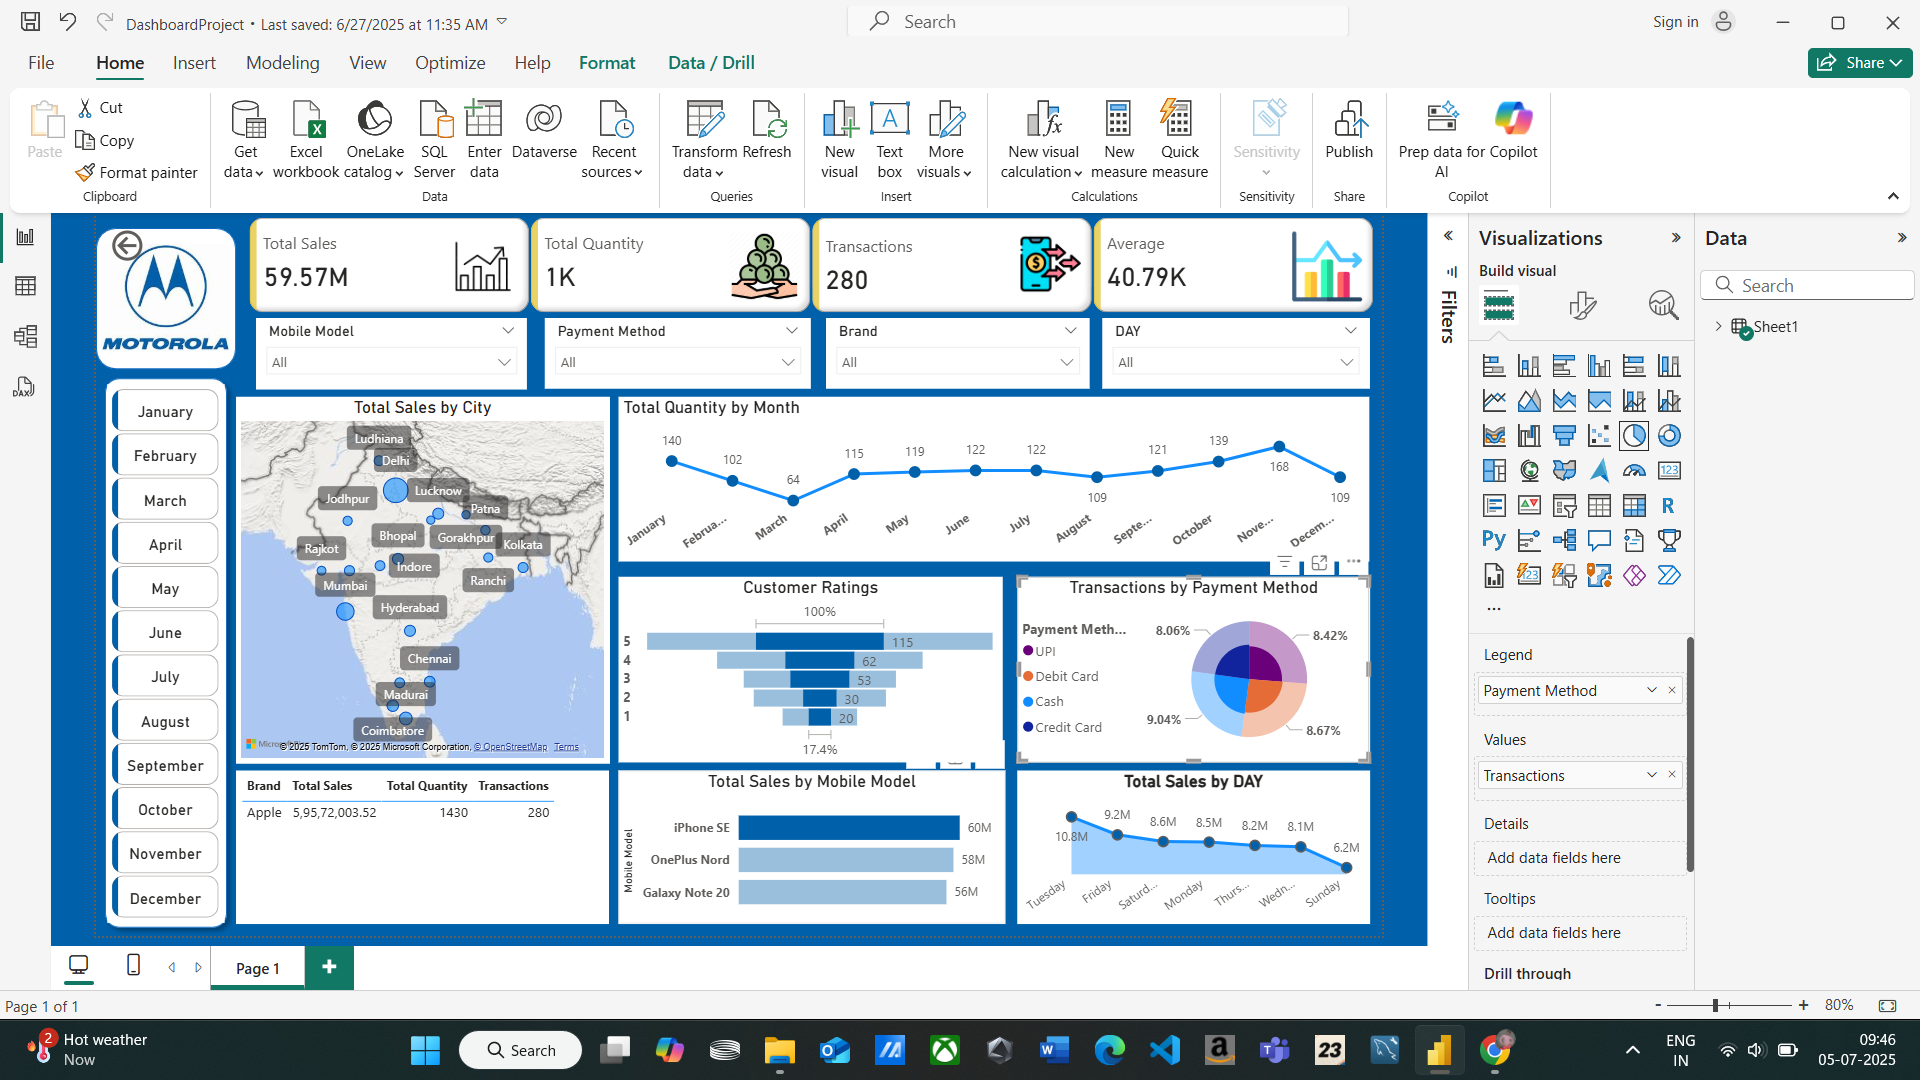

The page's visual inventory and layout, read from the dashboard file:
{"tool":"powerbi","page":{"name":"Page 1","canvas":[1280,720],"ordinal":0},"visuals":[{"type":"shape","box":[0,14.9,139.3,140.6],"z":0},{"type":"image","box":[0,12.5,138.8,142.5],"z":1000},{"type":"shape","box":[0,155.5,139.3,564.8],"z":2000},{"type":"advancedSlicerVisual","fields":{"Values":["Sheet1.DATE.Variation.Date Hierarchy.Month"]},"box":[11.2,170.4,116.9,536.1],"z":3000},{"type":"cardVisual","fields":{"Data":["Sheet1.Total Sales","Sheet1.Total Quantity","Sheet1.Transactions","Sheet1.Average"]},"box":[148,0,1129.5,104.5],"z":4000},{"type":"map","fields":{"Category":["Sheet1.City"],"Size":["Sheet1.Total Sales"]},"box":[138.8,182.5,371.2,365],"z":5000},{"type":"lineChart","fields":{"Y":["Sheet1.Total Quantity"],"Category":["Sheet1.DATE.Variation.Date Hierarchy.Month","Sheet1.DATE.Variation.Date Hierarchy.Day"]},"box":[520,182.5,747.5,163.8],"z":6000},{"type":"barChart","fields":{"Category":["Sheet1.Mobile Model"],"Y":["Sheet1.Total Sales"]},"box":[520,555,385,152.5],"z":7000},{"type":"pieChart","fields":{"Category":["Sheet1.Payment Method"],"Y":["Sheet1.Transactions"]},"box":[916.2,362.5,351.2,185],"z":8000},{"type":"funnel","title":"  Customer Ratings","fields":{"Category":["Sheet1.Customer Ratings"],"Y":["CountNonNull(Sheet1.Customer Ratings)"]},"box":[520,362.5,382.5,185],"z":9000},{"type":"areaChart","fields":{"Category":["Sheet1.DAY"],"Y":["Sheet1.Total Sales"]},"box":[916.2,555,351.2,152.5],"z":10000},{"type":"tableEx","fields":{"Values":["Sheet1.Brand","Sheet1.Total Sales","Sheet1.Total Quantity","Sheet1.Transactions"]},"box":[138.8,555,371.2,152.5],"z":11000},{"type":"actionButton","box":[11.2,12.5,100,40],"z":12000},{"type":"slicer","fields":{"Values":["Sheet1.Mobile Model"]},"box":[159.2,104.5,269.9,70.9],"z":13000},{"type":"slicer","fields":{"Values":["Sheet1.Payment Method"]},"box":[446.2,105,265,70],"z":14000},{"type":"slicer","fields":{"Values":["Sheet1.Brand"]},"box":[726.2,105,262.5,70],"z":15000},{"type":"slicer","fields":{"Values":["Sheet1.DAY"]},"box":[1001.2,105,266.2,70],"z":16000}]}

Visuals, with their boxes on the page's 1280x720 design canvas (x1, y1, x2, y2). These are canvas units, not pixel positions in the 1920x1080 screenshot, which may show the page scaled, cropped or inside an application window:
shape: (0,15,139,156)
image: (0,12,139,155)
shape: (0,156,139,720)
advancedSlicerVisual - Sheet1.DATE.Variation.Date Hierarchy.Month: (11,170,128,706)
cardVisual - Sheet1.Total Sales x Sheet1.Total Quantity: (148,0,1278,104)
map - Sheet1.City x Sheet1.Total Sales: (139,182,510,548)
lineChart - Sheet1.Total Quantity x Sheet1.DATE.Variation.Date Hierarchy.Month: (520,182,1268,346)
barChart - Sheet1.Mobile Model x Sheet1.Total Sales: (520,555,905,708)
pieChart - Sheet1.Payment Method x Sheet1.Transactions: (916,362,1267,548)
"  Customer Ratings" funnel: (520,362,902,548)
areaChart - Sheet1.DAY x Sheet1.Total Sales: (916,555,1267,708)
tableEx - Sheet1.Brand x Sheet1.Total Sales: (139,555,510,708)
actionButton: (11,12,111,52)
slicer - Sheet1.Mobile Model: (159,104,429,175)
slicer - Sheet1.Payment Method: (446,105,711,175)
slicer - Sheet1.Brand: (726,105,989,175)
slicer - Sheet1.DAY: (1001,105,1267,175)
